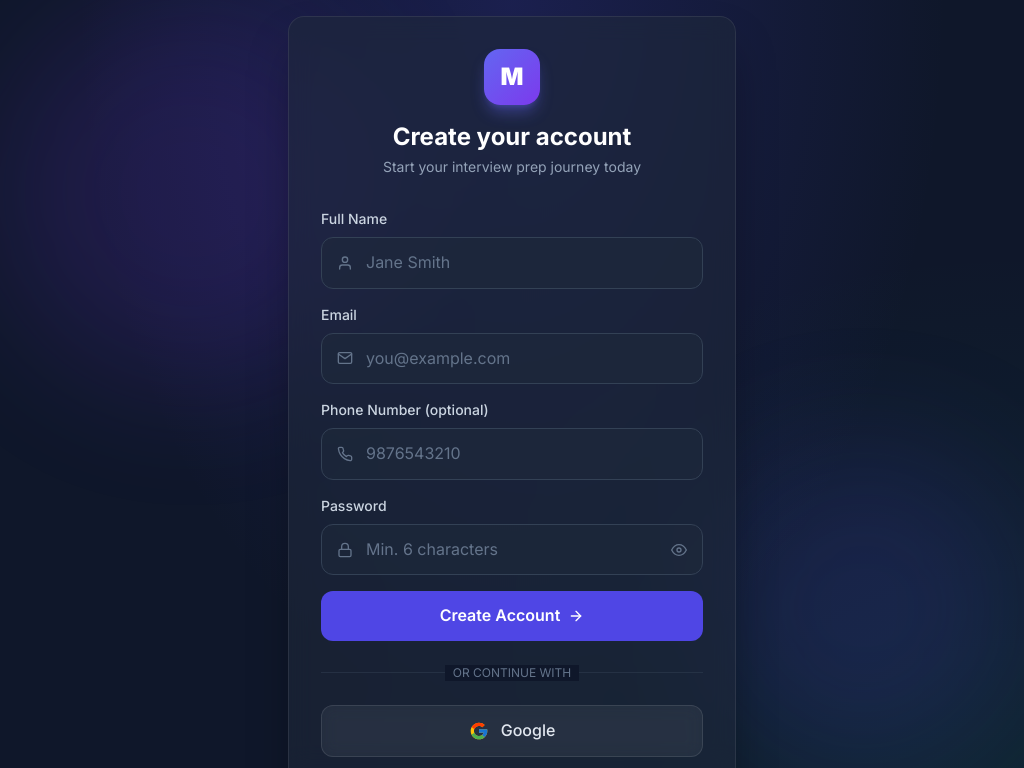
Test: Signup Page › shows error when name is empty
Click the button "Create Account" at x=512, y=616, box [321, 591, 703, 641]
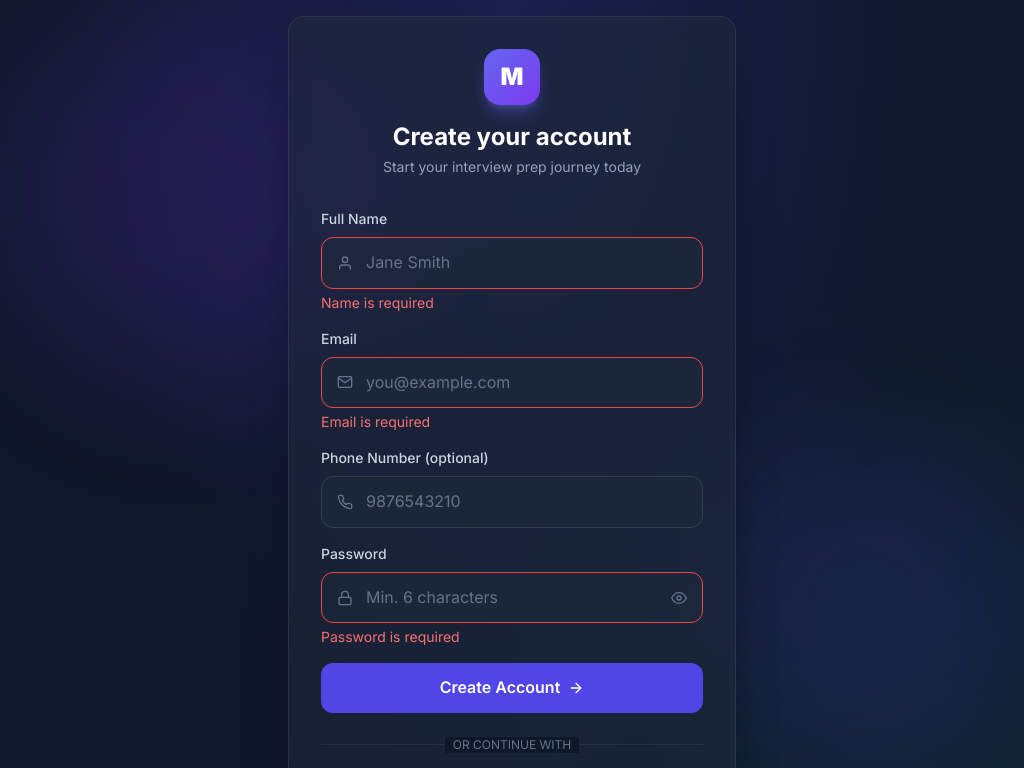
Expected: the text "Name is required" is shown, [321, 294, 434, 311]
